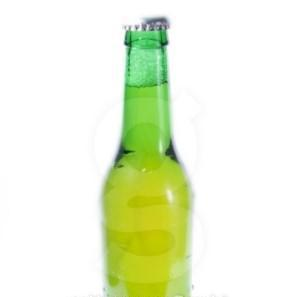beer: (100, 19, 197, 297)
